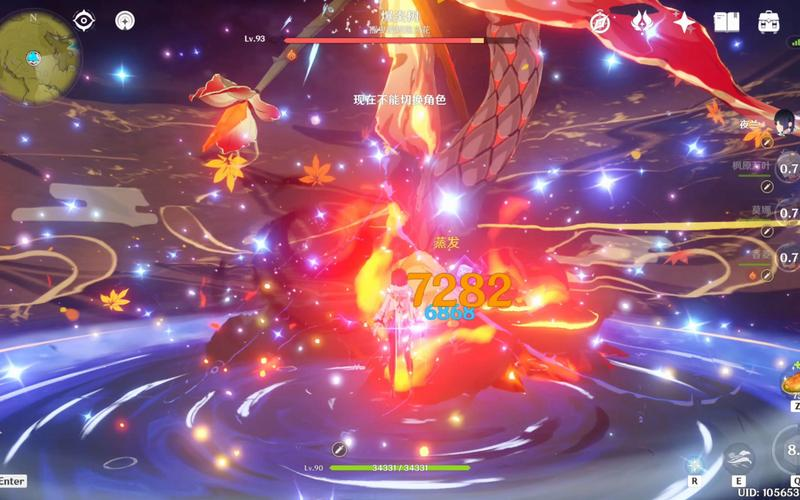夜兰: (374, 266, 425, 388)
